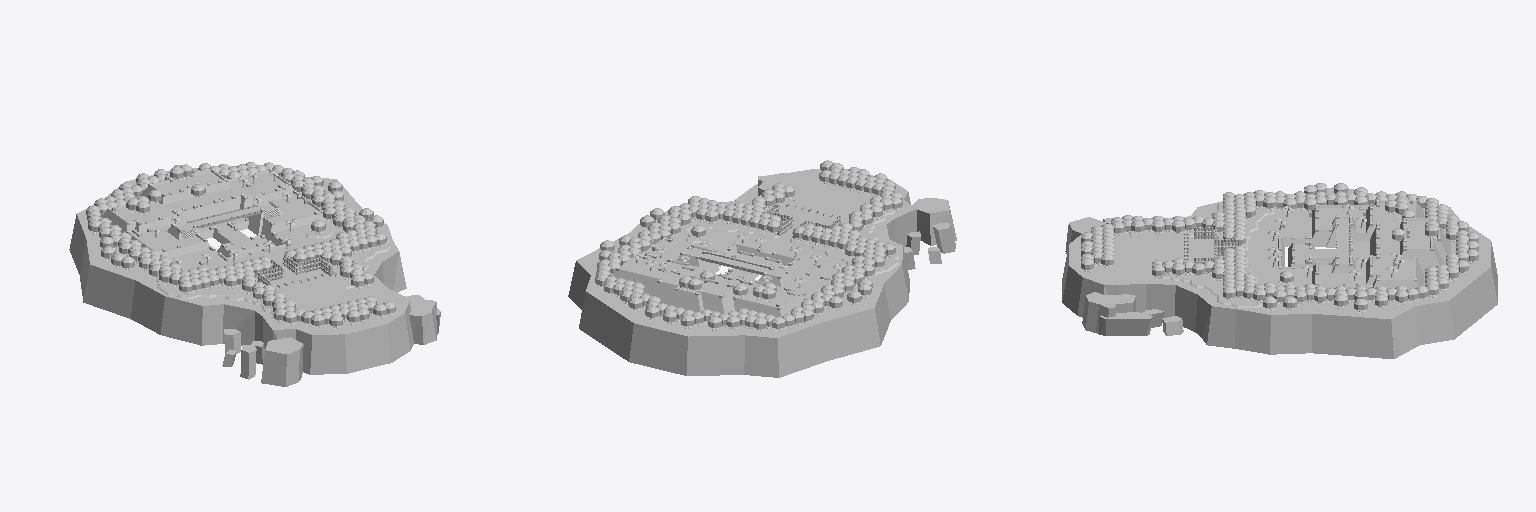
Rendered from Island.obj.
The picture shows the model from 3 angles: view 1: azimuth 30°, elevation 25°; view 2: azimuth 150°, elevation 25°; view 3: azimuth 270°, elevation 25°; orthographic projection.
Visible parts, largest first — view 1: n12b12, n18b18, n0b1, n13b13, n7b7, n5b5, n9b9, n2b3, n6b6, n4b4, n15b15; view 2: n12b12, n18b18, n0b1, n13b13, n7b7, n5b5, n9b9, n2b3, n4b4; view 3: n12b12, n18b18, n0b1, n13b13, n7b7, n9b9, n5b5, n2b3.
Boxes of the visible parts, box(x1,y1,x2,y2) form: n12b12: box(69, 168, 440, 386); n18b18: box(86, 162, 395, 328); n0b1: box(81, 172, 344, 270); n13b13: box(82, 181, 431, 352); n7b7: box(102, 178, 325, 257); n5b5: box(107, 168, 322, 260); n9b9: box(156, 230, 390, 319); n2b3: box(80, 180, 395, 304); n6b6: box(147, 183, 317, 258); n4b4: box(190, 205, 260, 228); n15b15: box(258, 254, 331, 284); n12b12: box(568, 169, 956, 377); n18b18: box(595, 160, 902, 331); n0b1: box(590, 229, 846, 336); n13b13: box(590, 170, 945, 336); n7b7: box(613, 246, 830, 316); n5b5: box(616, 237, 832, 309); n9b9: box(681, 198, 899, 275); n2b3: box(580, 213, 899, 335); n4b4: box(699, 251, 769, 274); n12b12: box(1062, 187, 1497, 358); n18b18: box(1081, 183, 1478, 312); n0b1: box(1246, 203, 1446, 298); n13b13: box(1072, 208, 1487, 317); n7b7: box(1282, 202, 1450, 288); n9b9: box(1130, 202, 1298, 307); n5b5: box(1278, 200, 1440, 288); n2b3: box(1202, 189, 1446, 317).
Bounding box in the file's own units: 0.9753 × 0.22 × 1.29.